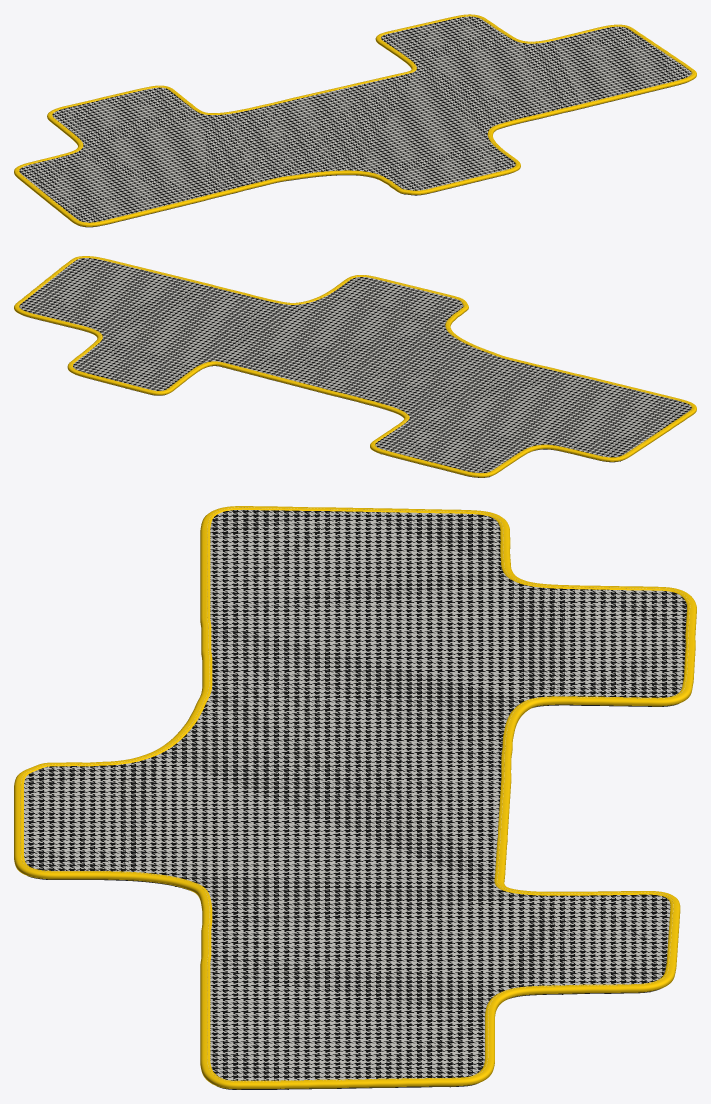
File: CarMat_03_transverse.glb
The picture shows the model from 3 angles, top to bottom: view 1: azimuth 30°, elevation 25°; view 2: azimuth 150°, elevation 25°; view 3: azimuth 270°, elevation 25°; orthographic projection. The views are drawn at different scales.
Visible parts, largest first — view 1: MainFabric, Edge, MainBody; view 2: MainFabric, Edge, MainBody; view 3: MainFabric, Edge, Stitch, MainBody.
Boxes of the visible parts, x1,y1,x2,y2 form: MainFabric: (19,16,691,222); Edge: (14,14,696,226); MainBody: (79,83,685,227); MainFabric: (19,258,691,472); Edge: (14,256,696,477); MainBody: (28,317,622,477); MainFabric: (24,509,686,1080); Edge: (14,506,696,1089); Stitch: (20,507,690,1081); MainBody: (28,703,678,1089).
Bounding box in the file's own units: 1.32 × 0.00875 × 0.6571.
5 materials, 1 textured.
